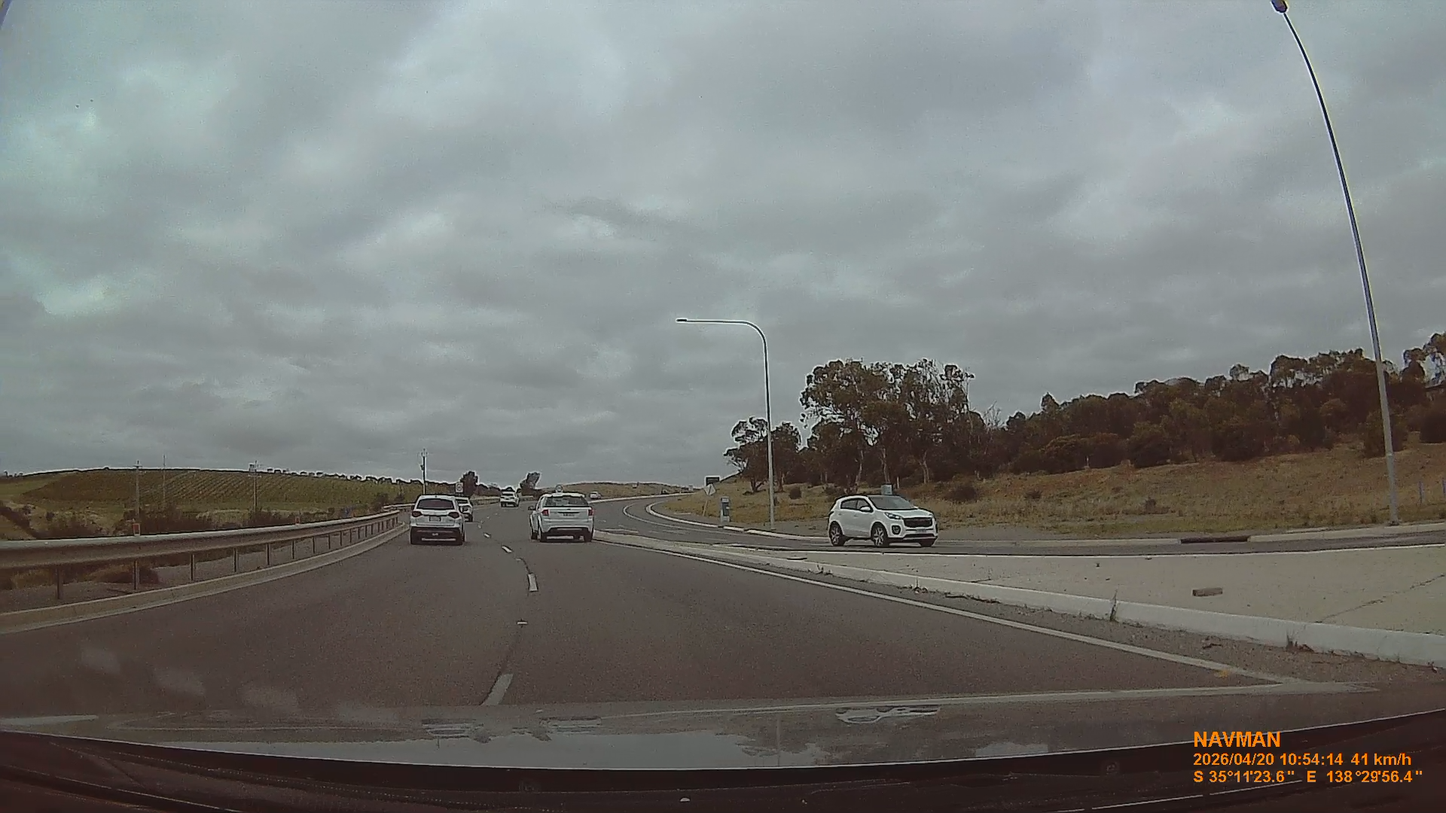road barriers: (0, 511, 406, 571)
